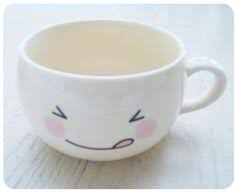cup: (9, 14, 230, 165)
